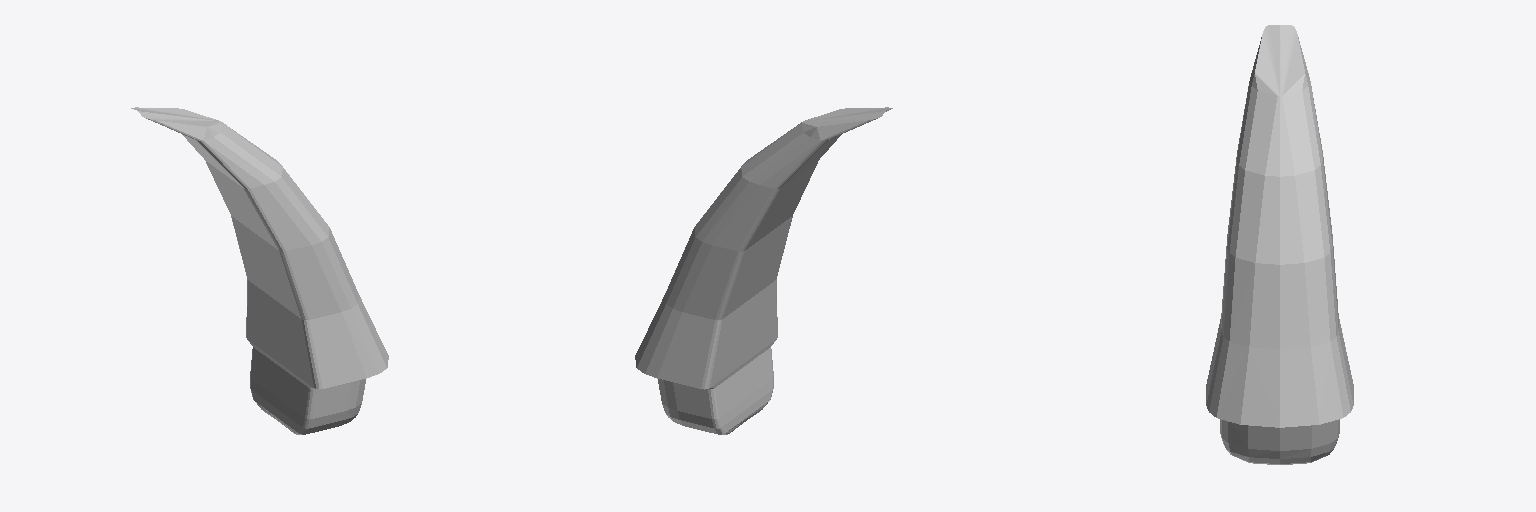
The model's file is character_jackArmLeft..obj.
3 views of the same model, side by side, from view 1: azimuth 30°, elevation 25°; view 2: azimuth 150°, elevation 25°; view 3: azimuth 270°, elevation 25° (orthographic).
Visible parts, largest first — view 1: character_jackArmLeft._Cube.031; view 2: character_jackArmLeft._Cube.031; view 3: character_jackArmLeft._Cube.031.
Part boxes in pixels (x1,y1,x2,y2): character_jackArmLeft._Cube.031: (131, 107, 388, 434); character_jackArmLeft._Cube.031: (635, 107, 892, 434); character_jackArmLeft._Cube.031: (1206, 25, 1353, 464).
Bounding box in the file's own units: 0.411 × 0.5708 × 0.2193.